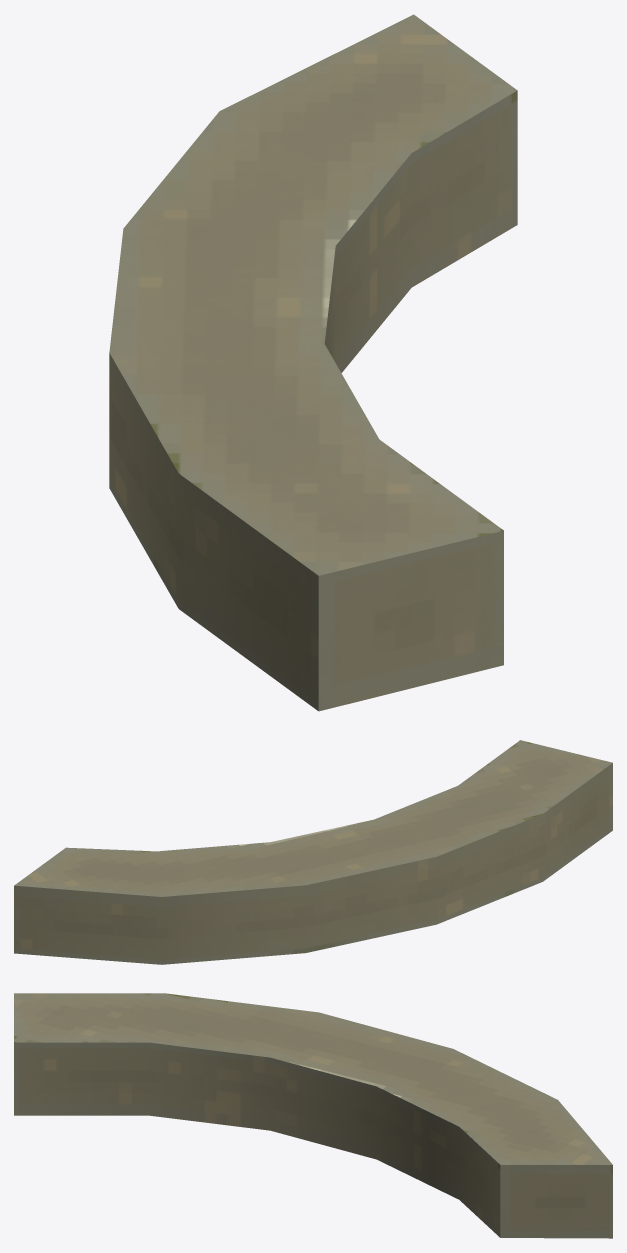
The model's file is Trapezoidal_for_column.fbx.
3 views of the same model, one above another, from view 1: azimuth 30°, elevation 25°; view 2: azimuth 150°, elevation 25°; view 3: azimuth 270°, elevation 25° (orthographic). The views are drawn at different scales.
Parts seen in each view (by area): view 1: Trapezoidal_for_column; view 2: Trapezoidal_for_column; view 3: Trapezoidal_for_column.
Boxes of the visible parts, x1,y1,x2,y2 form: Trapezoidal_for_column: (109,14,517,711); Trapezoidal_for_column: (14,740,612,964); Trapezoidal_for_column: (14,993,612,1238).
Bounding box in the file's own units: 408 × 81.79 × 603.
